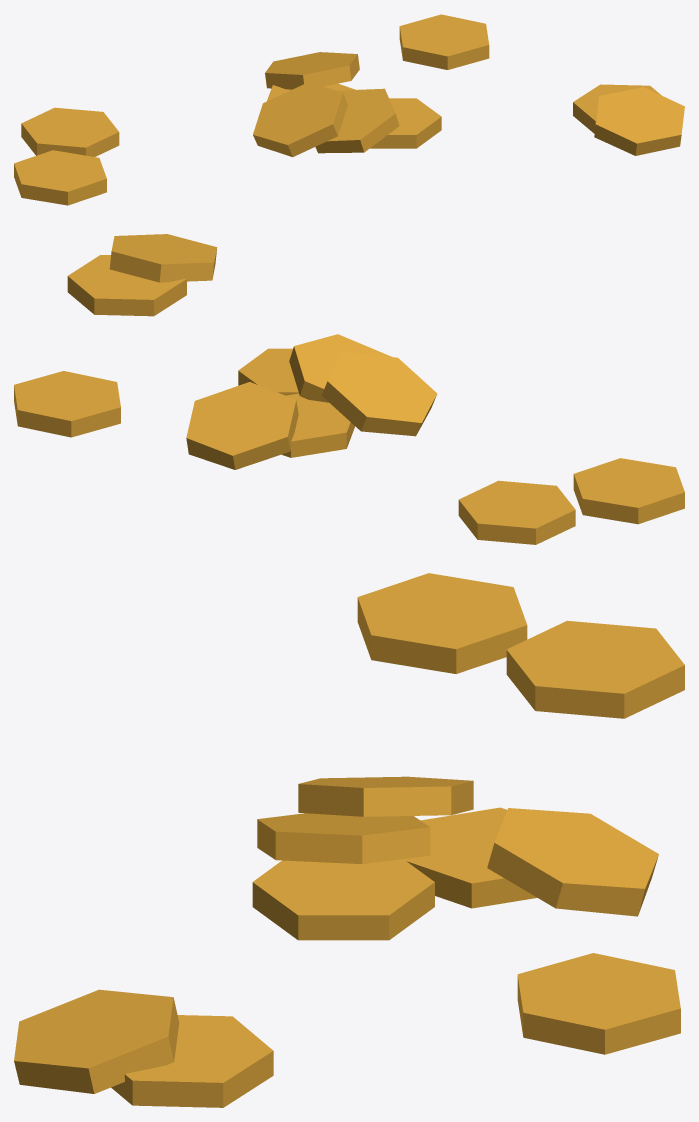
Rendered from Coin_4.fbx.
3 views of the same model, one above another, from view 1: azimuth 30°, elevation 25°; view 2: azimuth 150°, elevation 25°; view 3: azimuth 270°, elevation 25° (orthographic). The views are drawn at different scales.
Parts seen in each view (by area): view 1: Coin_4; view 2: Coin_4; view 3: Coin_4.
Part boxes in pixels (x1,y1,x2,y2): Coin_4: [14, 14, 684, 205]; Coin_4: [14, 234, 684, 544]; Coin_4: [14, 573, 684, 1107].
Bounding box in the file's own units: 41.19 × 3.04 × 22.91.
